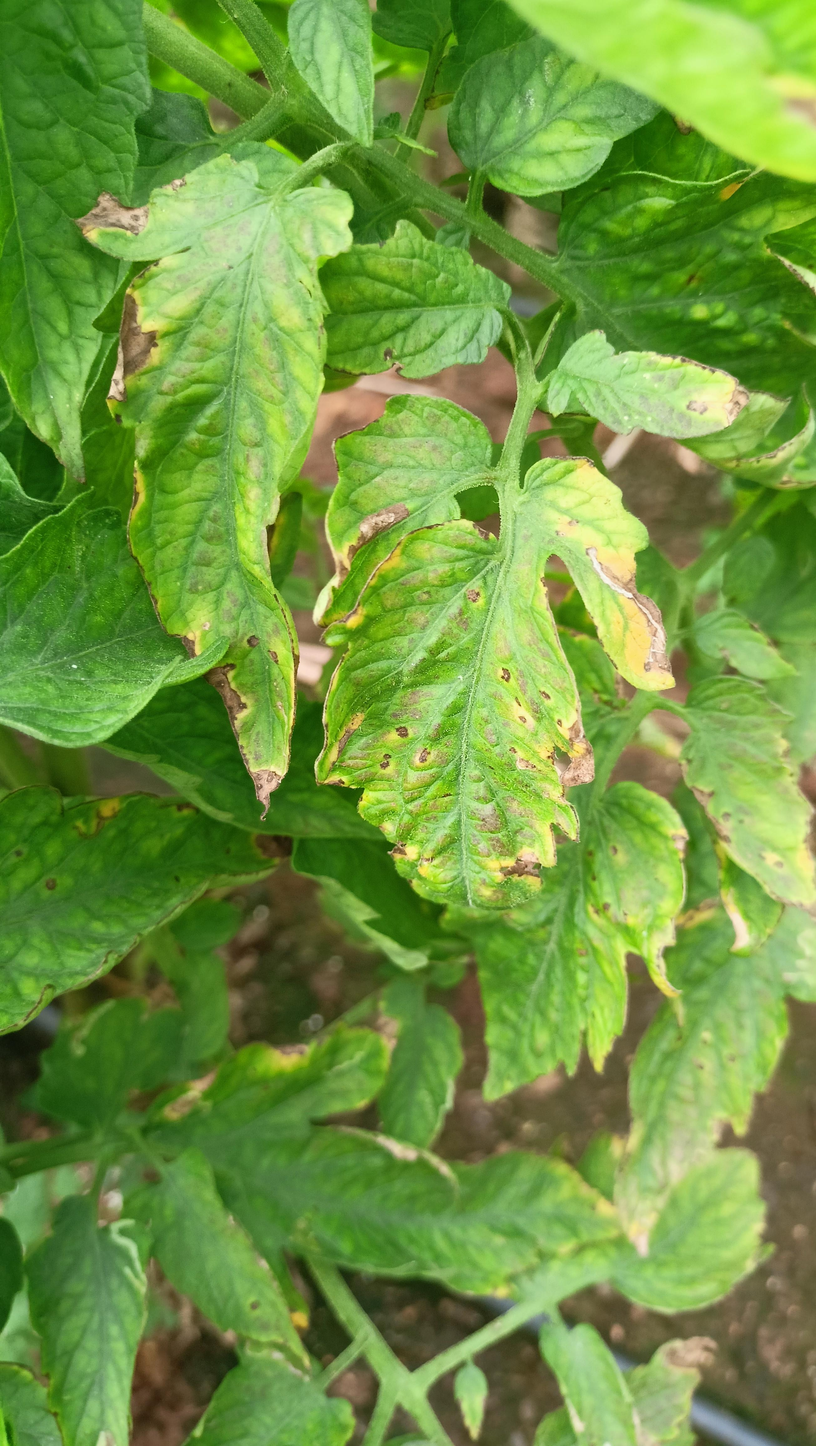Early Blight: (306, 390, 676, 917), (67, 150, 356, 823), (536, 330, 759, 446)
